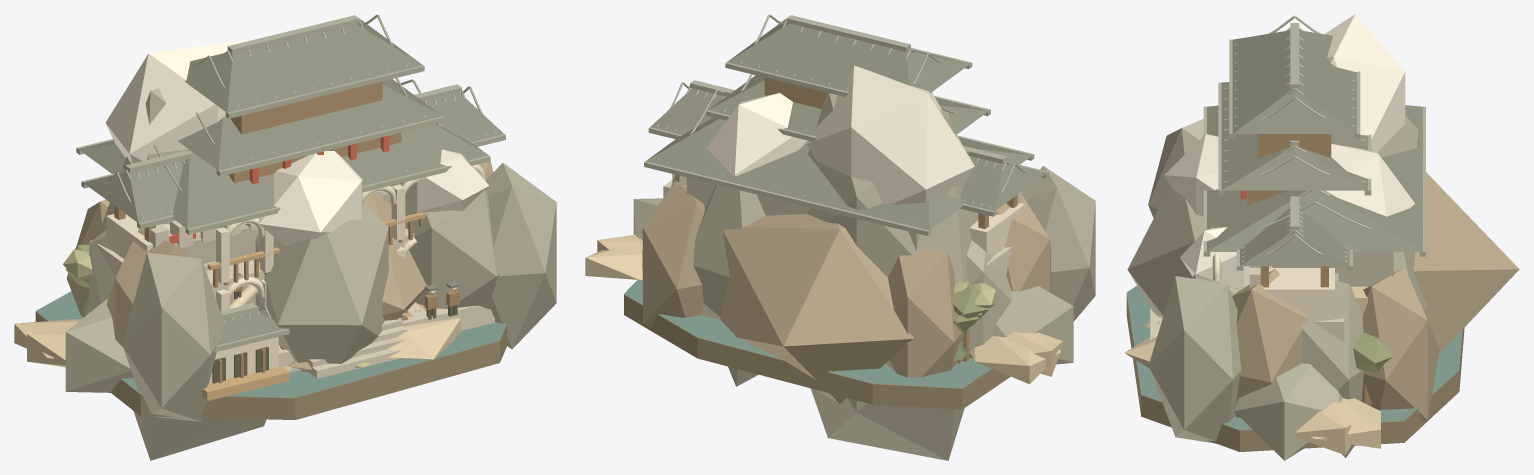
Rendered from overview-landmarks.glb.
3 renders of one model, left to right at view 1: azimuth 30°, elevation 25°; view 2: azimuth 150°, elevation 25°; view 3: azimuth 270°, elevation 25°, orthographic. The views are drawn at different scales.
Parts seen in each view (by area): view 1: jiajin_miniature, huining_miniature, jiaoping_miniature, zunyi_miniature, luding_miniature, yudu_miniature, wuqi_miniature, xiangjiang_miniature; view 2: jiajin_miniature, jiaoping_miniature, wuqi_miniature, yudu_miniature, huining_miniature, zunyi_miniature, luding_miniature, xiangjiang_miniature; view 3: jiaoping_miniature, huining_miniature, jiajin_miniature, zunyi_miniature, luding_miniature, wuqi_miniature, yudu_miniature, xiangjiang_miniature.
Part boxes in pixels (x1,y1,x2,y2): jiajin_miniature: (79,39,499,460); huining_miniature: (69,14,444,349); jiaoping_miniature: (66,161,556,421); zunyi_miniature: (63,79,494,378); luding_miniature: (65,84,505,392); yudu_miniature: (14,291,508,419); wuqi_miniature: (86,193,426,400); xiangjiang_miniature: (27,279,89,367); jiajin_miniature: (693,65,978,460); jiaoping_miniature: (642,166,1095,377); wuqi_miniature: (684,185,968,403); yudu_miniature: (585,248,1060,409); huining_miniature: (706,14,1021,363); zunyi_miniature: (644,89,1034,361); luding_miniature: (633,80,1073,364); xiangjiang_miniature: (597,231,1062,376); jiaoping_miniature: (1124,119,1439,447); huining_miniature: (1218,15,1371,287); jiajin_miniature: (1127,14,1426,458); zunyi_miniature: (1150,105,1425,339); luding_miniature: (1234,196,1352,460); wuqi_miniature: (1351,172,1519,354); yudu_miniature: (1126,286,1464,451); xiangjiang_miniature: (1294,332,1392,454).
Size of the model in its own units: 1.5 by 1.23 by 1.08.
